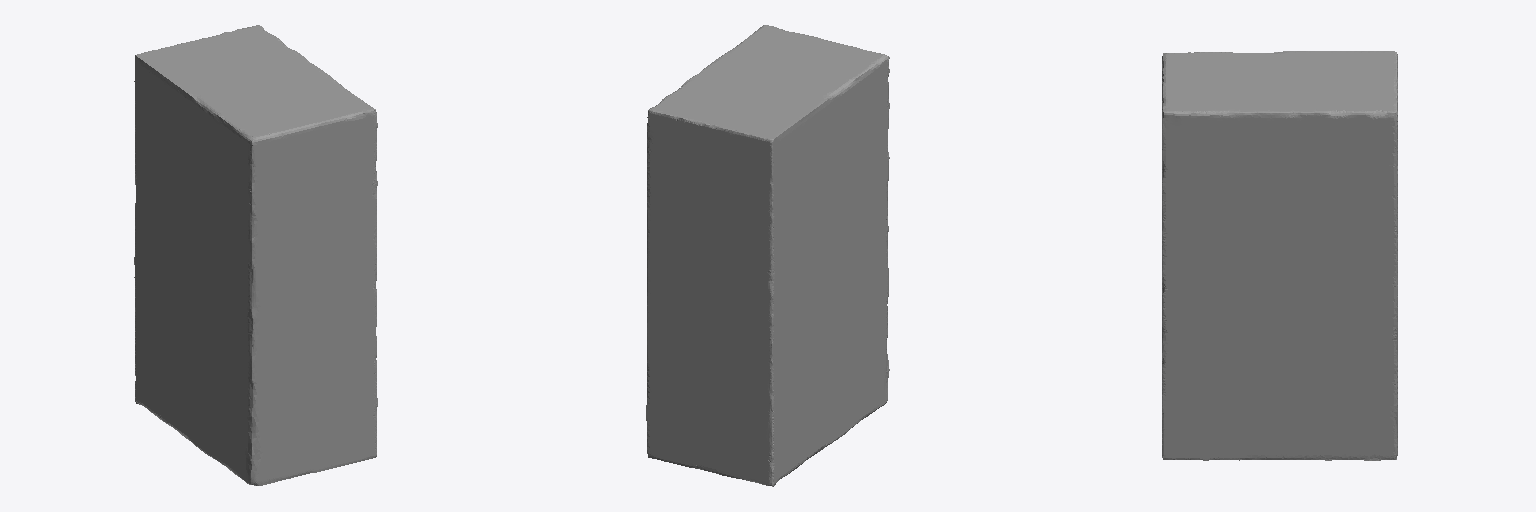
File: RadAway.obj
The picture shows the model from 3 angles: view 1: azimuth 30°, elevation 25°; view 2: azimuth 150°, elevation 25°; view 3: azimuth 270°, elevation 25°; orthographic projection.
Size of the model in its own units: 0.2538 by 0.6685 by 0.4092.